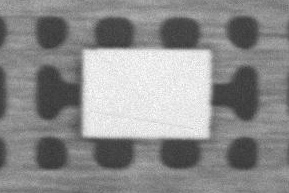DIE_CRACK: (135, 74, 288, 85)
